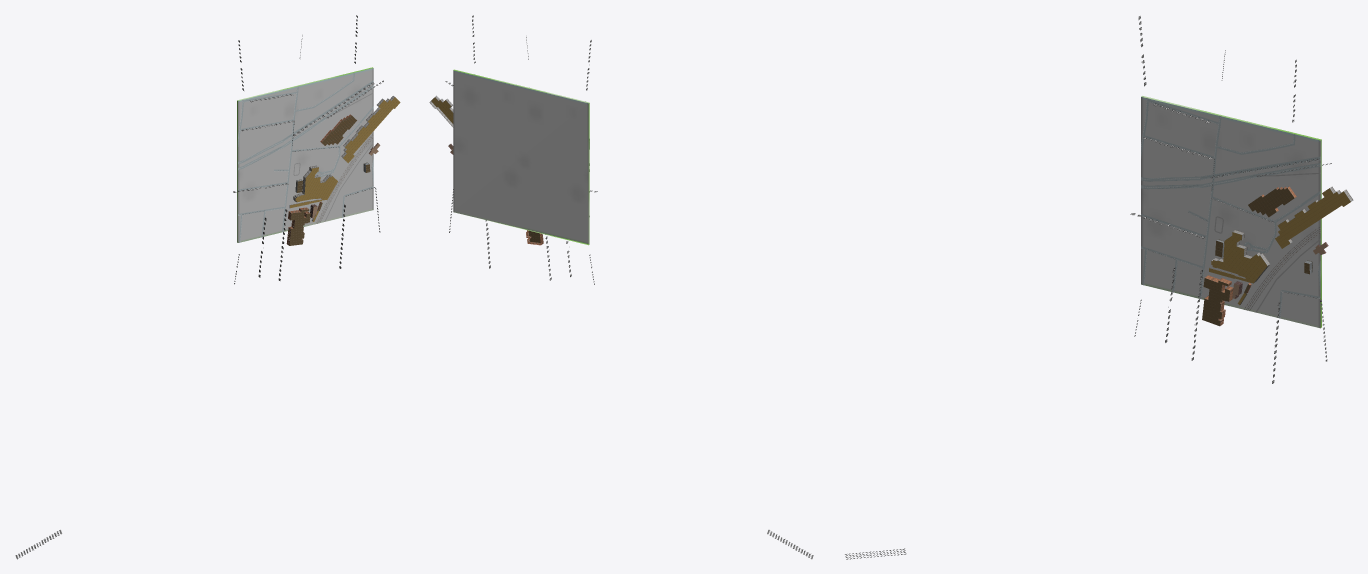
3 renders of one model, left to right at view 1: azimuth 30°, elevation 25°; view 2: azimuth 150°, elevation 25°; view 3: azimuth 330°, elevation 25°, orthographic. The views are drawn at different scales.
Parts seen in each view (by area): view 1: POLYGON, BUILDING, POLYLINE, FONT; view 2: POLYGON, BUILDING, FONT; view 3: POLYGON, BUILDING, POLYLINE, FONT.
Boxes of the visible parts, x1,y1,x2,y2 form: POLYGON: (237, 67, 373, 242); BUILDING: (286, 96, 400, 245); POLYLINE: (238, 72, 373, 242); FONT: (15, 15, 383, 559); POLYGON: (453, 69, 589, 245); BUILDING: (429, 95, 543, 245); FONT: (445, 15, 813, 559); POLYGON: (1141, 96, 1321, 328); BUILDING: (1202, 186, 1353, 326); POLYLINE: (1141, 98, 1320, 318); FONT: (845, 16, 1331, 559).
Bounding box in the file's own units: 1730 × 2004 × 29.
3 materials, 3 textured.
